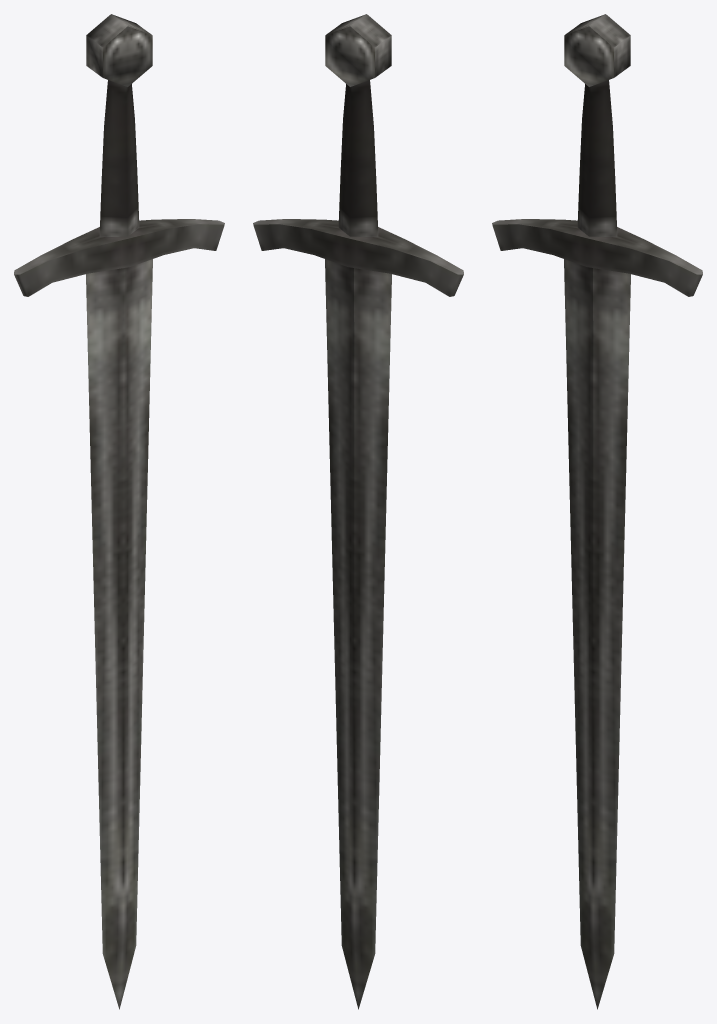
The model's file is EspadaSword.obj.
The picture shows the model from 3 angles, left to right: view 1: azimuth 30°, elevation 25°; view 2: azimuth 150°, elevation 25°; view 3: azimuth 330°, elevation 25°; orthographic projection.
Parts seen in each view (by area): view 1: Espada; view 2: Espada; view 3: Espada.
Boxes of the visible parts, bbox=[...] form: Espada: bbox=[14, 14, 224, 1009]; Espada: bbox=[253, 14, 463, 1009]; Espada: bbox=[492, 14, 702, 1009].
Bounding box in the file's own units: 0.2104 × 0.9434 × 0.0367.
